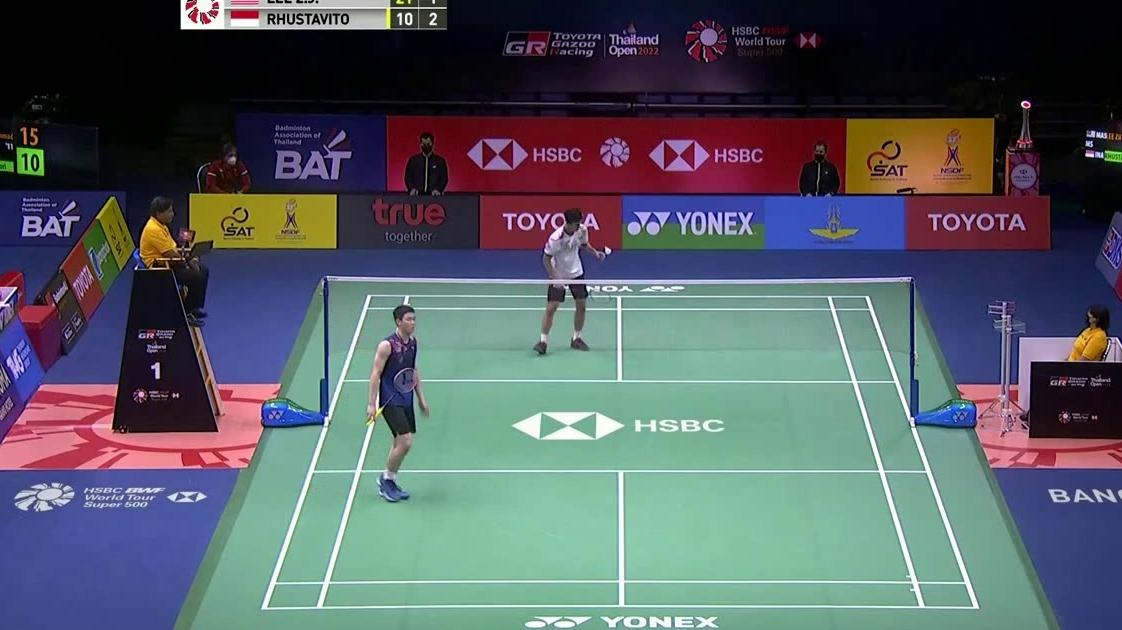racket: (365, 368, 418, 428), (553, 281, 612, 303)
shuttle: (604, 245, 611, 254)
